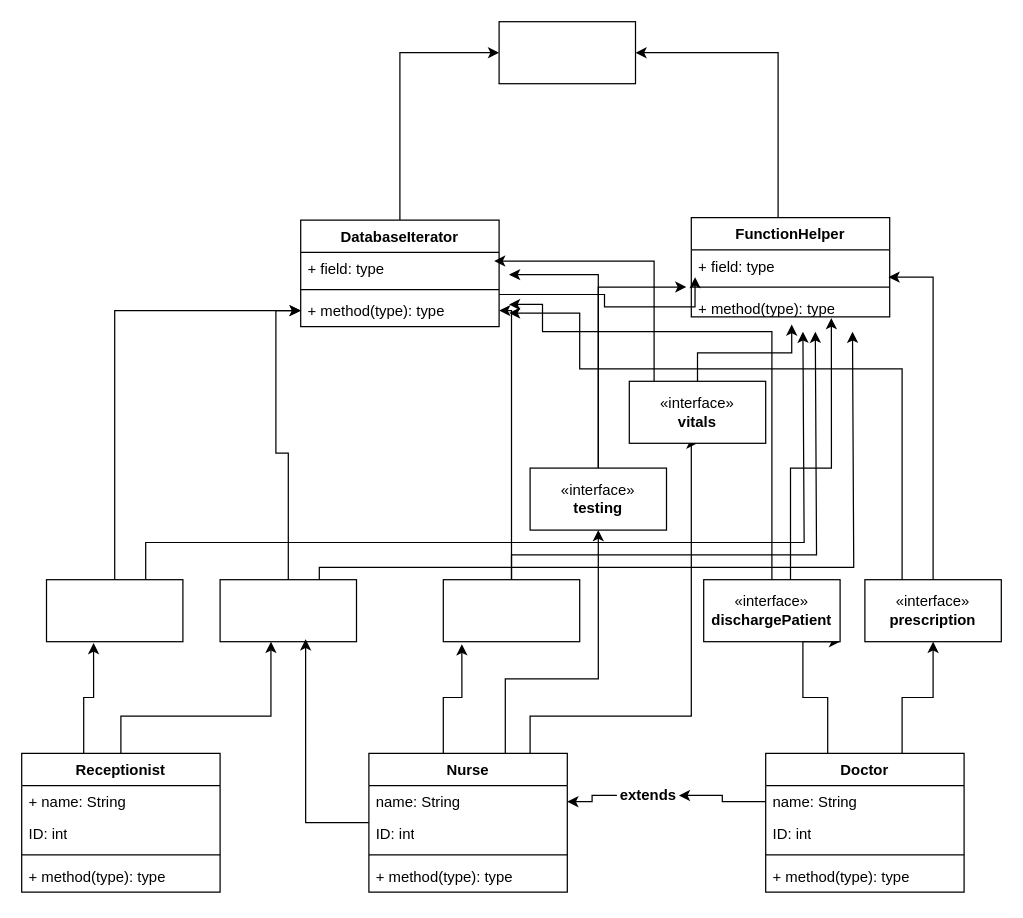
The diagram is 1023 pixels wide and 918 high, and some of its shapes have lost their labels. The shapes that lost their labels are listed below. From the top down, each one's centre as x and y in pixels, then its label:
pixel 567 52: Database
pixel 114 610: «interface» admitPatient
pixel 287 610: «interface» homePage
pixel 511 610: «interface» patientInfo
